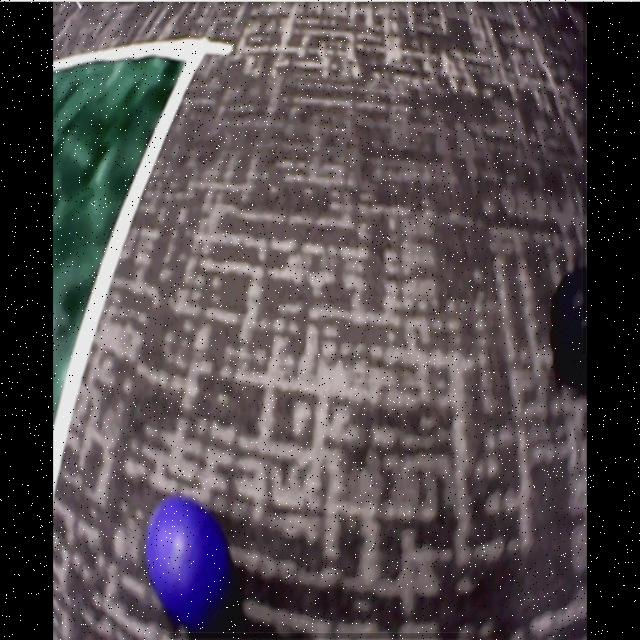ball: (148, 497, 231, 626)
